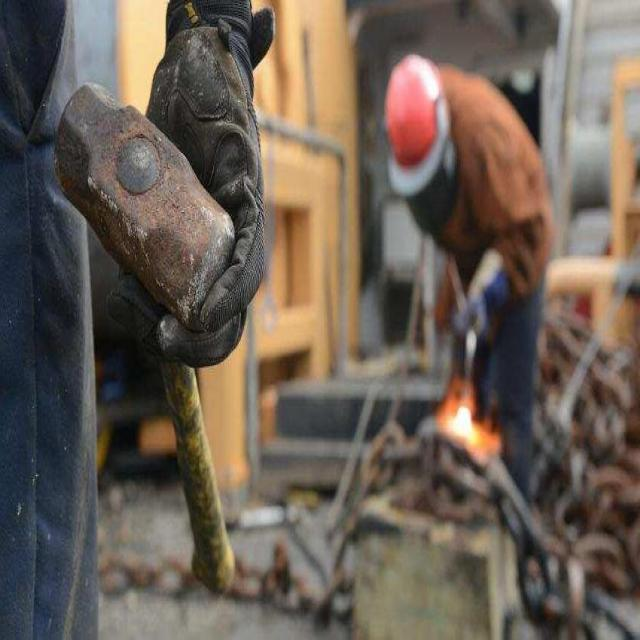Reflective-Jacket: (424, 55, 556, 353)
Safety-Helmet: (377, 43, 453, 199)
